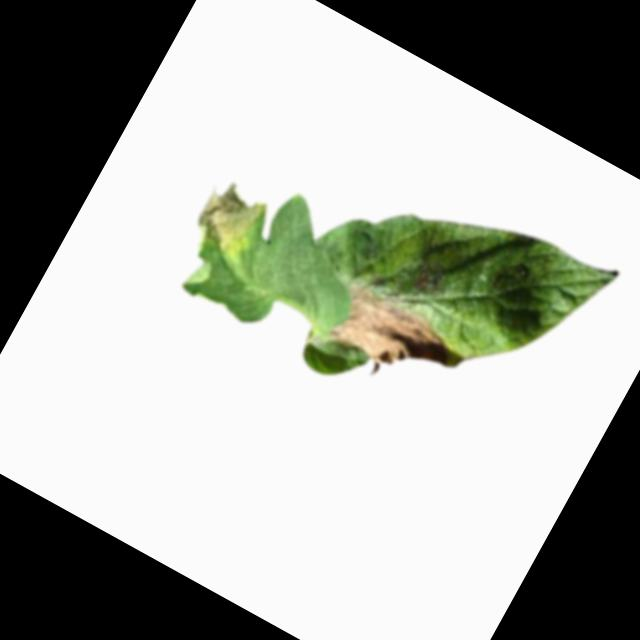Late_blight: (322, 278, 461, 394), (187, 173, 272, 263)
